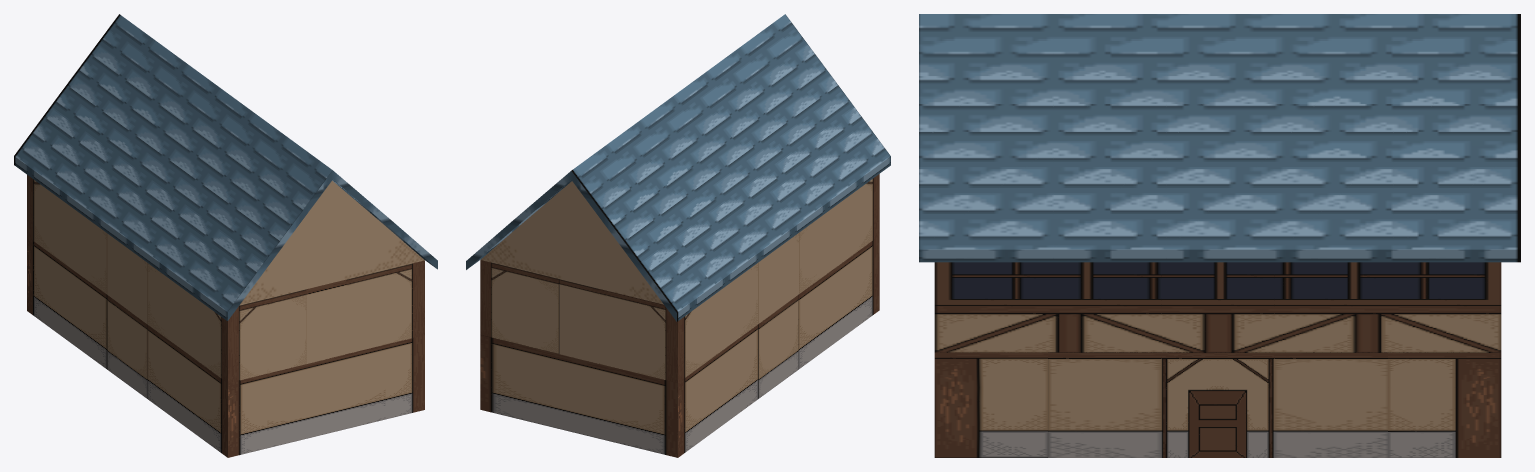
The model's file is BlueHouse1.fbx.
3 renders of one model, left to right at view 1: azimuth 30°, elevation 25°; view 2: azimuth 150°, elevation 25°; view 3: azimuth 270°, elevation 25°, orthographic. The views are drawn at different scales.
Visible parts, largest first — view 1: New object.037; view 2: New object.037; view 3: New object.037.
Part boxes in pixels (x1=…): New object.037: x1=14, y1=14, x2=437, y2=457; New object.037: x1=466, y1=14, x2=890, y2=457; New object.037: x1=919, y1=14, x2=1520, y2=457.
Size of the model in its own units: 309 by 375 by 543.
1 material, 1 textured.
